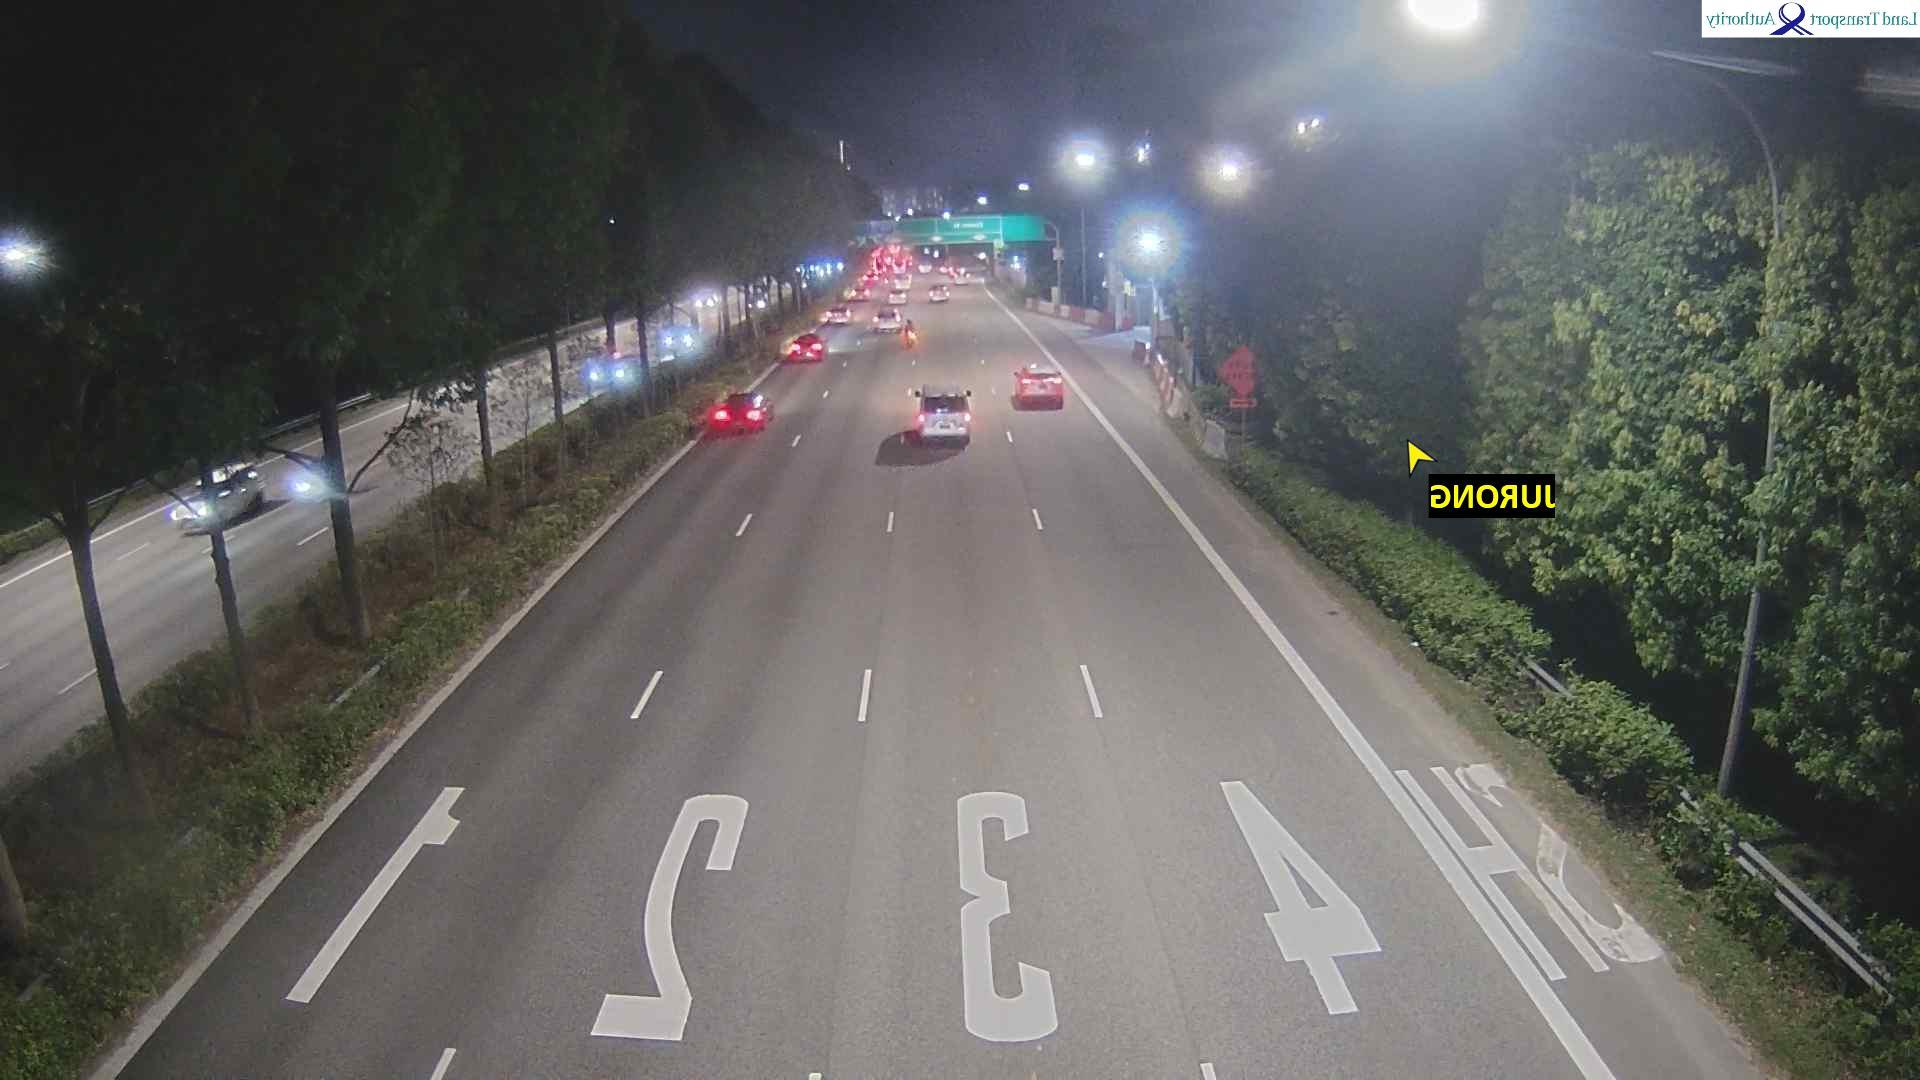incoming: (169, 471, 241, 542), (583, 350, 637, 390)
